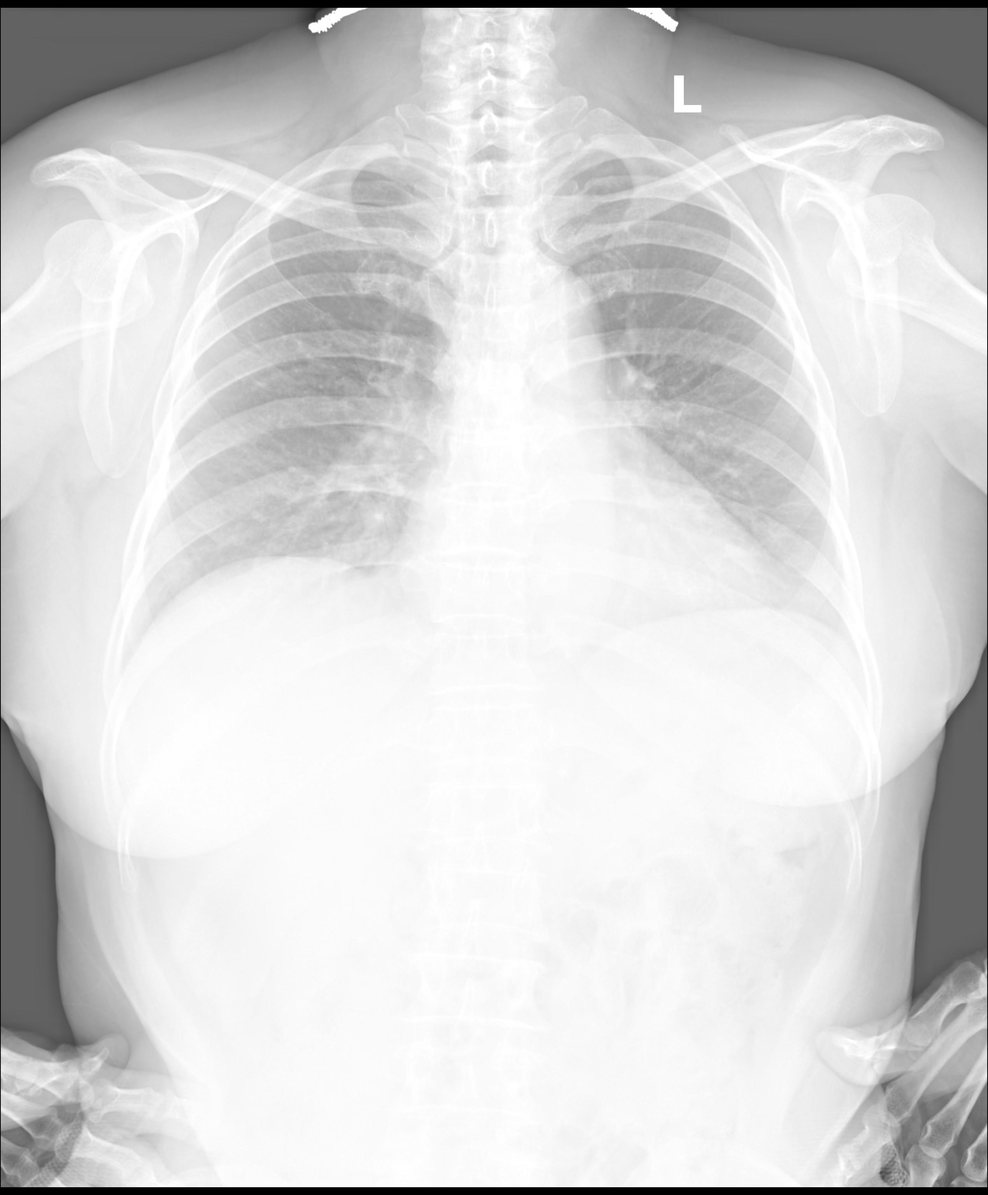Aortic enlargement: (501, 265, 604, 368)
Cardiomegaly: (392, 512, 796, 628)
